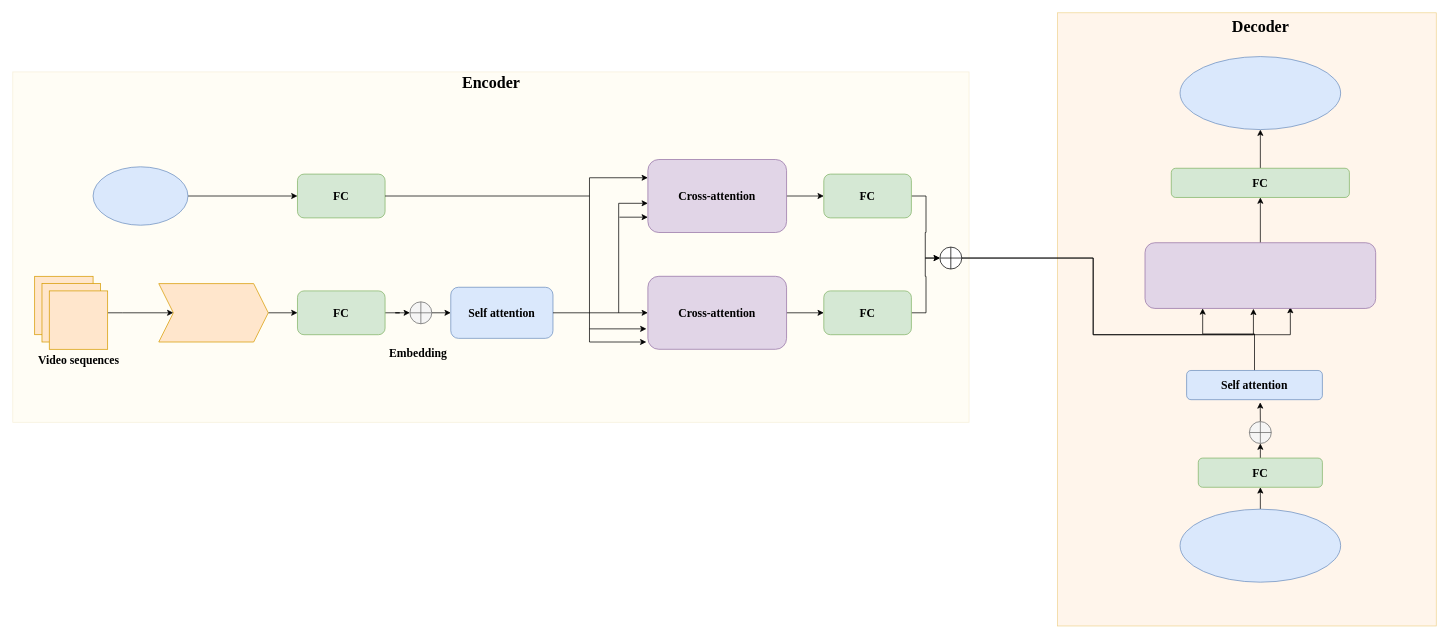
This 1449x639 diagram has some shape labels left out. The centre of each missing label's shape, as x and y in pixels:
"Encoder decoder attention" goes at (x=1260, y=275).
"Ground truth (labels)" goes at (x=1260, y=545).
"Prediction" goes at (x=1260, y=93).
"ResNet" goes at (x=213, y=312).
"set of coordinates" goes at (x=140, y=195).
